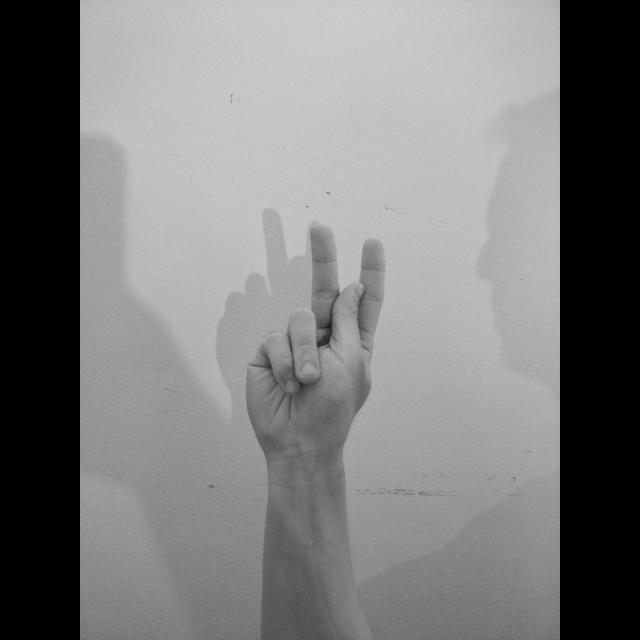K: (240, 215, 394, 467)
